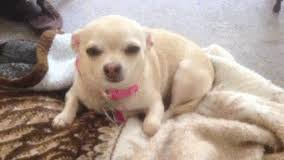chihuahua: (50, 12, 219, 132)
